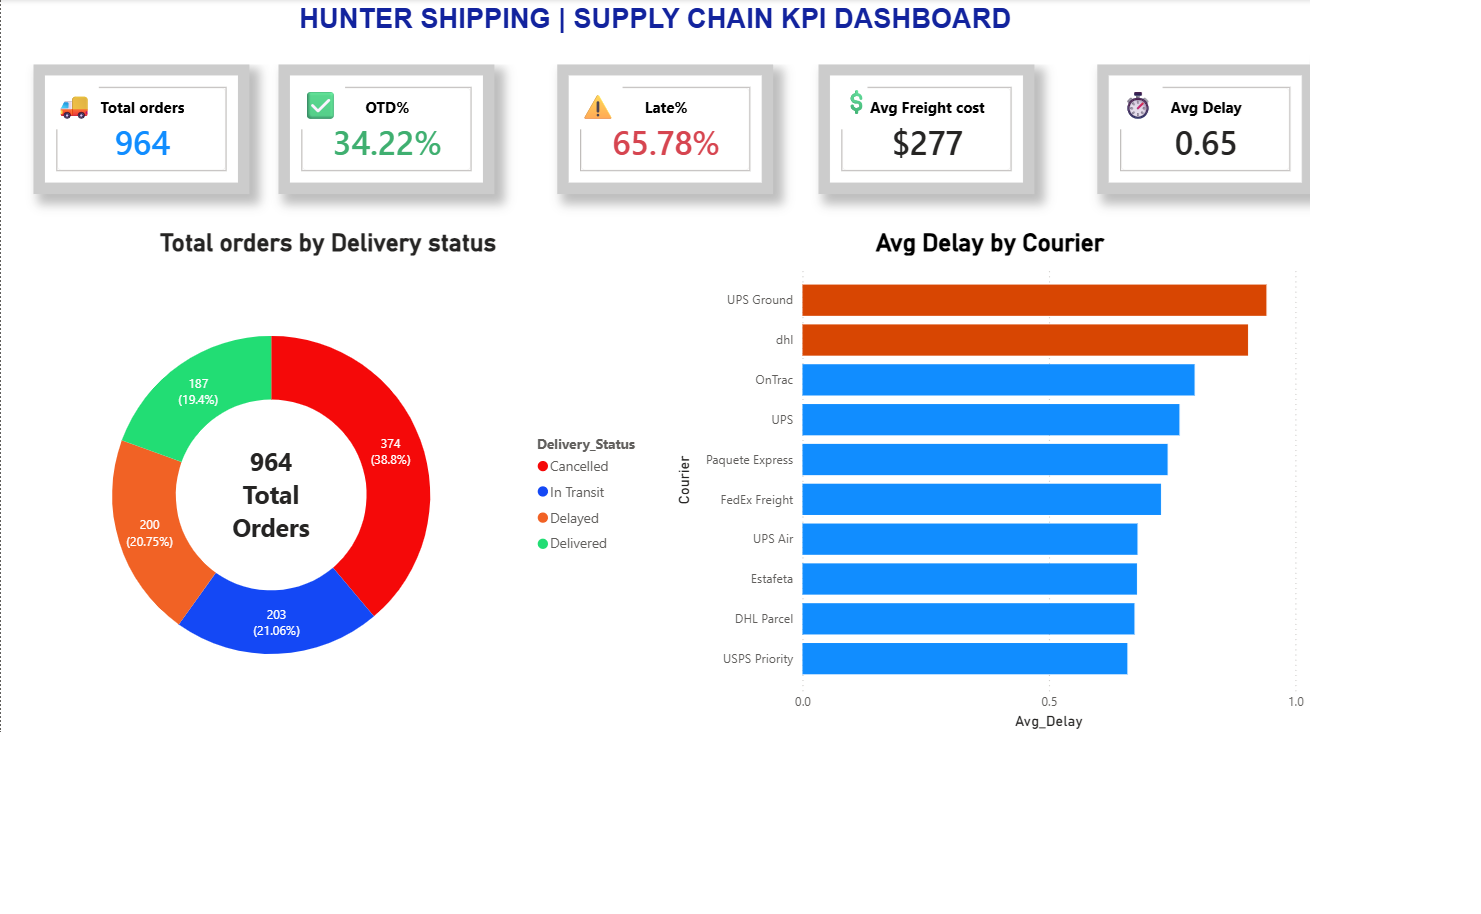

This screenshot's page, from the dashboard's own definition file:
{"tool":"powerbi","page":{"name":"Page 1","canvas":[1280,720],"ordinal":0},"visuals":[{"type":"cardVisual","fields":{"Data":["hunter_cleaned.Late%"]},"box":[544,63,211,127],"z":0},{"type":"cardVisual","fields":{"Data":["hunter_cleaned.OTD%"]},"box":[272,63,211,127],"z":1000},{"type":"cardVisual","fields":{"Data":["hunter_cleaned.Avg_freight_cost"]},"box":[800,63,211,127],"z":2000},{"type":"cardVisual","fields":{"Data":["hunter_cleaned.Avg_Delay"]},"box":[1072,63,211,127],"z":3000},{"type":"cardVisual","fields":{"Data":["hunter_cleaned.Total_orders"]},"box":[32,63,211,127],"z":4000},{"type":"donutChart","title":"Total orders by Delivery status","fields":{"Category":["hunter_cleaned.Delivery_Status"],"Y":["hunter_cleaned.Total_orders"]},"box":[0,224,640,496],"z":5000},{"type":"barChart","title":"Avg Delay by Courier","fields":{"Category":["hunter_cleaned.Courier"],"Y":["hunter_cleaned.Avg_Delay"]},"box":[656,224,624,496],"z":6000},{"type":"textbox","box":[0,0,1280,64],"z":7000},{"type":"textbox","box":[48,80,48,48],"z":8000},{"type":"textbox","box":[288,80,48,48],"z":9000},{"type":"textbox","box":[560,80,48,48],"z":10000},{"type":"textbox","box":[816,80,32,48],"z":11000},{"type":"textbox","box":[1088,80,48,48],"z":12000},{"type":"textbox","box":[192,432,144,112],"z":13000}]}

Visuals, with their boxes on the page's 1280x720 design canvas (x1, y1, x2, y2). These are canvas units, not pixel positions in the 1481x914 screenshot, which may show the page scaled, cropped or inside an application window:
cardVisual - hunter_cleaned.Late%: region(544, 63, 755, 190)
cardVisual - hunter_cleaned.OTD%: region(272, 63, 483, 190)
cardVisual - hunter_cleaned.Avg_freight_cost: region(800, 63, 1011, 190)
cardVisual - hunter_cleaned.Avg_Delay: region(1072, 63, 1283, 190)
cardVisual - hunter_cleaned.Total_orders: region(32, 63, 243, 190)
"Total orders by Delivery status" donutChart: region(0, 224, 640, 720)
"Avg Delay by Courier" barChart: region(656, 224, 1280, 720)
textbox: region(0, 0, 1280, 64)
textbox: region(48, 80, 96, 128)
textbox: region(288, 80, 336, 128)
textbox: region(560, 80, 608, 128)
textbox: region(816, 80, 848, 128)
textbox: region(1088, 80, 1136, 128)
textbox: region(192, 432, 336, 544)
